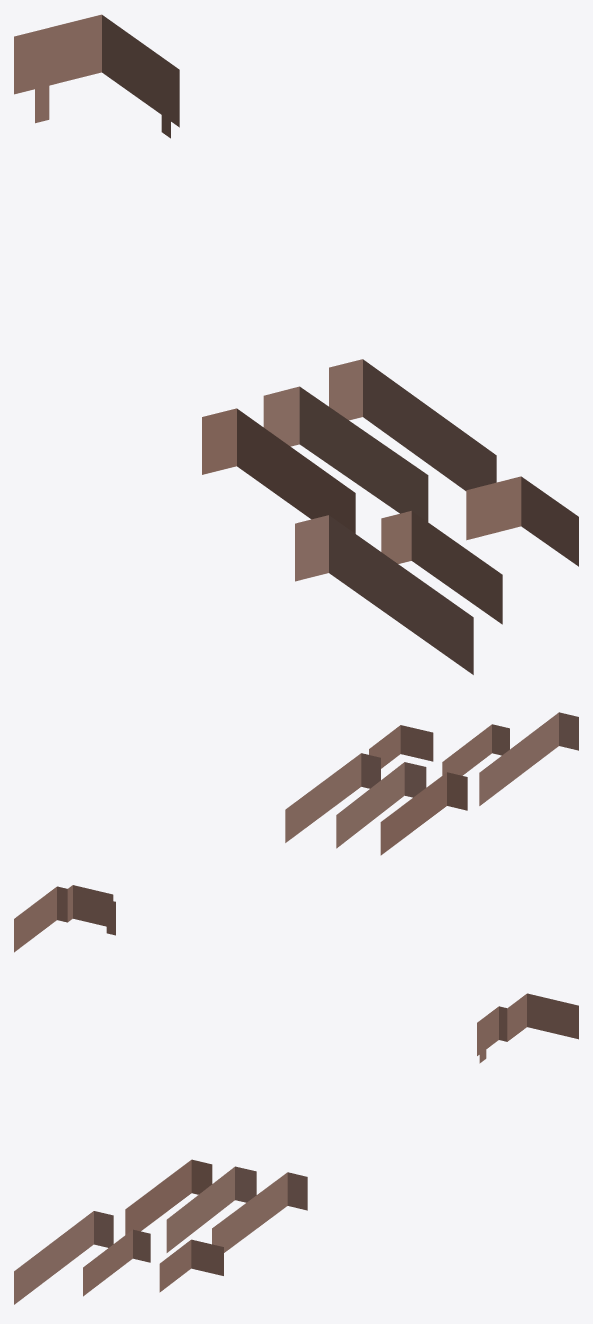
The model's file is c_1628_17828_buildings_residential.glb.
3 renders of one model, top to bottom at view 1: azimuth 30°, elevation 25°; view 2: azimuth 150°, elevation 25°; view 3: azimuth 330°, elevation 25°, orthographic. The views are drawn at different scales.
Visible parts, largest first — view 1: geometry_0; view 2: geometry_0; view 3: geometry_0.
Boxes of the visible parts, x1=… form: geometry_0: x1=14, y1=14, x2=578, y2=674; geometry_0: x1=14, y1=712, x2=578, y2=952; geometry_0: x1=14, y1=993, x2=578, y2=1304.
Bounding box in the file's own units: 64.04 × 21.5 × 225.
